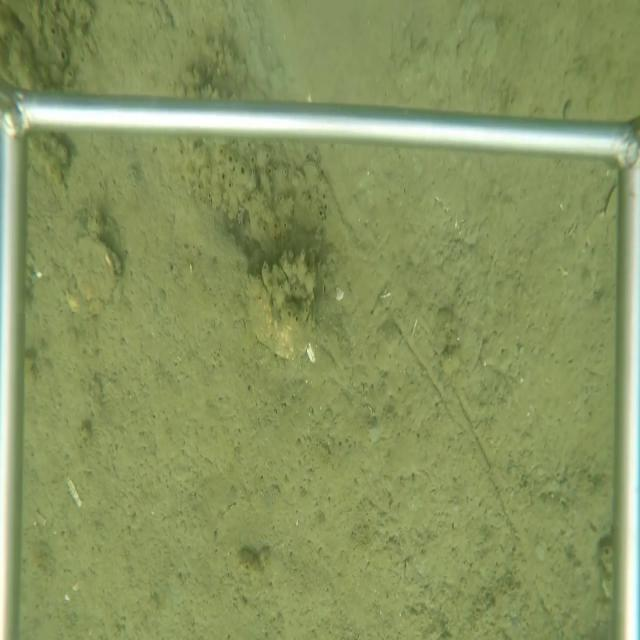Oyster-Closed: (64, 226, 128, 322)
Oyster-Indeterminate: (242, 270, 316, 363)
